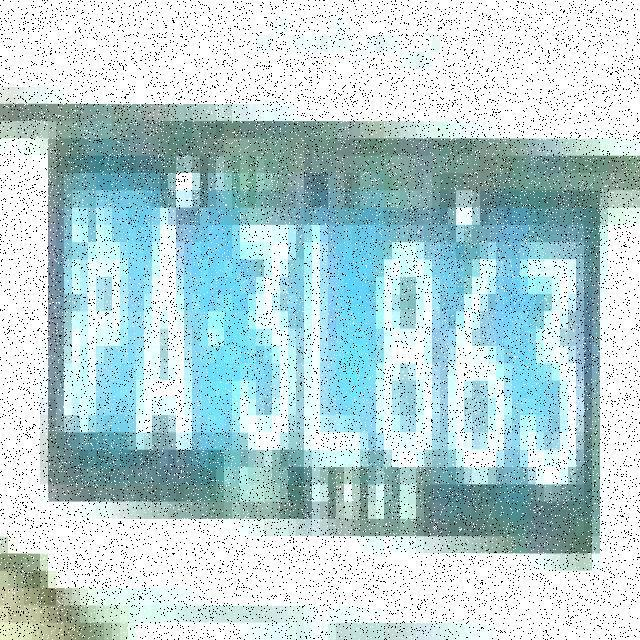LicensePlate: (43, 109, 606, 576)
